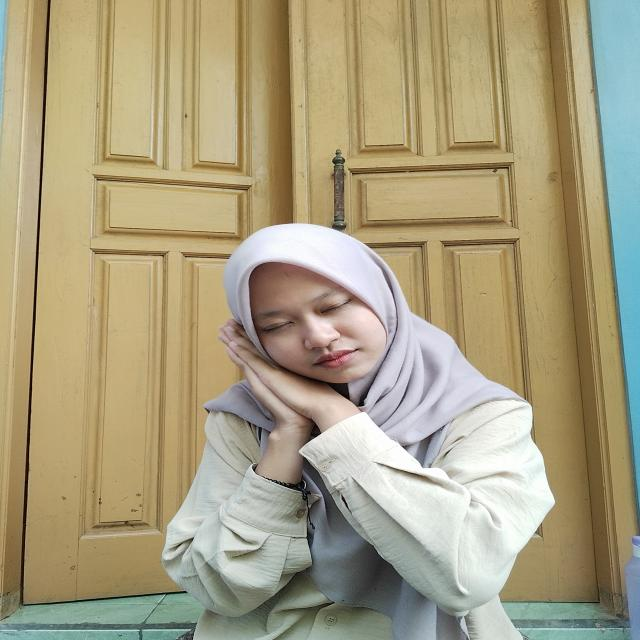tidur: (188, 317, 366, 490)
